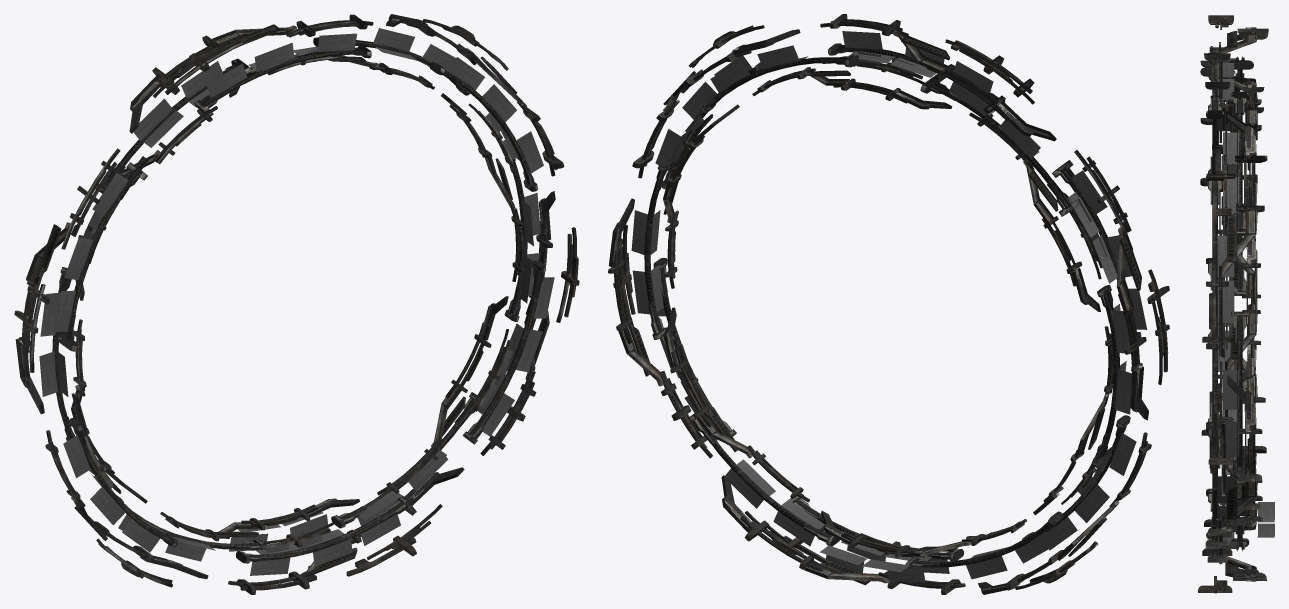
The model's file is xelnagahalo.fbx.
3 views of the same model, side by side, from view 1: azimuth 30°, elevation 25°; view 2: azimuth 150°, elevation 25°; view 3: azimuth 270°, elevation 25° (orthographic). The views are drawn at different scales.
Parts seen in each view (by area): view 1: Geoset_1, Geoset_2, Geoset_3, Geoset_0; view 2: Geoset_1, Geoset_2, Geoset_3, Geoset_0; view 3: Geoset_1, Geoset_3, Geoset_2.
Boxes of the visible parts, <box> form: Geoset_1: <box>14,14,579,594</box>; Geoset_2: <box>39,28,554,575</box>; Geoset_3: <box>52,37,545,563</box>; Geoset_0: <box>86,50,517,553</box>; Geoset_1: <box>608,14,1169,594</box>; Geoset_2: <box>631,31,1147,582</box>; Geoset_3: <box>644,43,1141,567</box>; Geoset_0: <box>673,51,1112,557</box>; Geoset_1: <box>1198,15,1268,593</box>; Geoset_3: <box>1200,52,1253,554</box>; Geoset_2: <box>1217,58,1274,548</box>.
Bounding box in the file's own units: 128 × 124 × 17.01.
2 materials, 2 textured.
